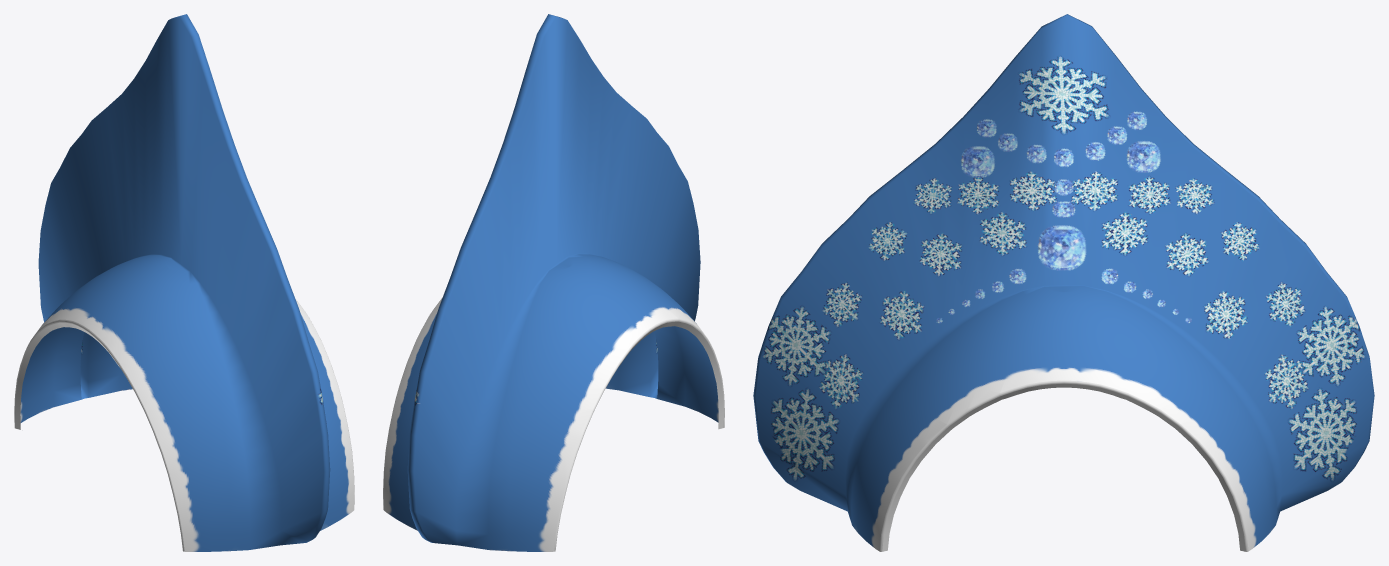
File: kokoshnik.fbx
3 views of the same model, side by side, from view 1: azimuth 30°, elevation 25°; view 2: azimuth 150°, elevation 25°; view 3: azimuth 270°, elevation 25° (orthographic). The views are drawn at different scales.
Visible parts, largest first — view 1: Sphere; view 2: Sphere; view 3: Sphere.
Part boxes in pixels (bbox=[...]): Sphere: bbox=[14, 14, 354, 551]; Sphere: bbox=[383, 14, 724, 551]; Sphere: bbox=[753, 14, 1374, 551].
Bounding box in the file's own units: 113 × 257 × 292.
